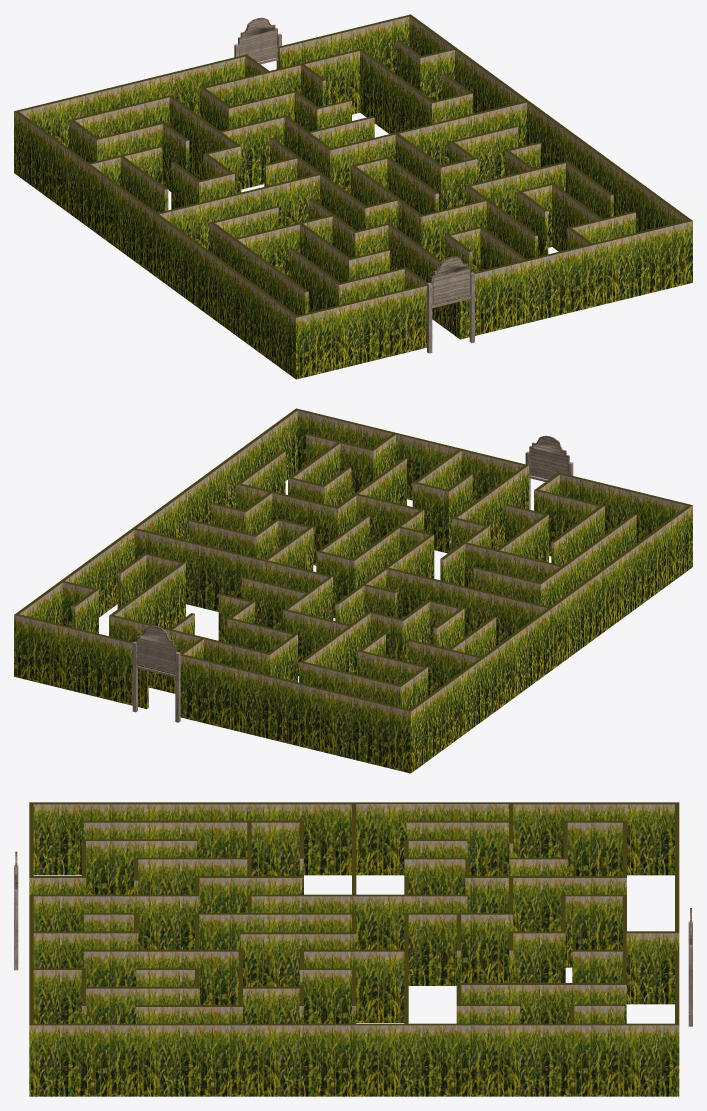
Rendered from corn_maze-01_glb-compressed.glb.
3 renders of one model, top to bottom at view 1: azimuth 30°, elevation 25°; view 2: azimuth 150°, elevation 25°; view 3: azimuth 270°, elevation 25°, orthographic. The views are drawn at different scales.
Parts seen in each view (by area): view 1: Line003_1, Line002_0, sign001_12, Box007_14; view 2: Line002_0, Line003_1, sign001_12, sign_6; view 3: Line003_1, Line002_0.
Boxes of the visible parts, bbox=[...] form: Line003_1: bbox=[69, 14, 692, 339]; Line002_0: bbox=[14, 48, 613, 379]; sign001_12: bbox=[239, 19, 276, 61]; Box007_14: bbox=[433, 269, 468, 302]; Line002_0: bbox=[109, 450, 692, 773]; Line003_1: bbox=[14, 408, 636, 709]; sign001_12: bbox=[137, 627, 174, 673]; sign_6: bbox=[530, 437, 567, 478]; Line003_1: bbox=[29, 820, 679, 1096]; Line002_0: bbox=[29, 802, 679, 1023].
Bounding box in the file's own units: 1842 × 399 × 2369.
15 materials, 13 textured.
